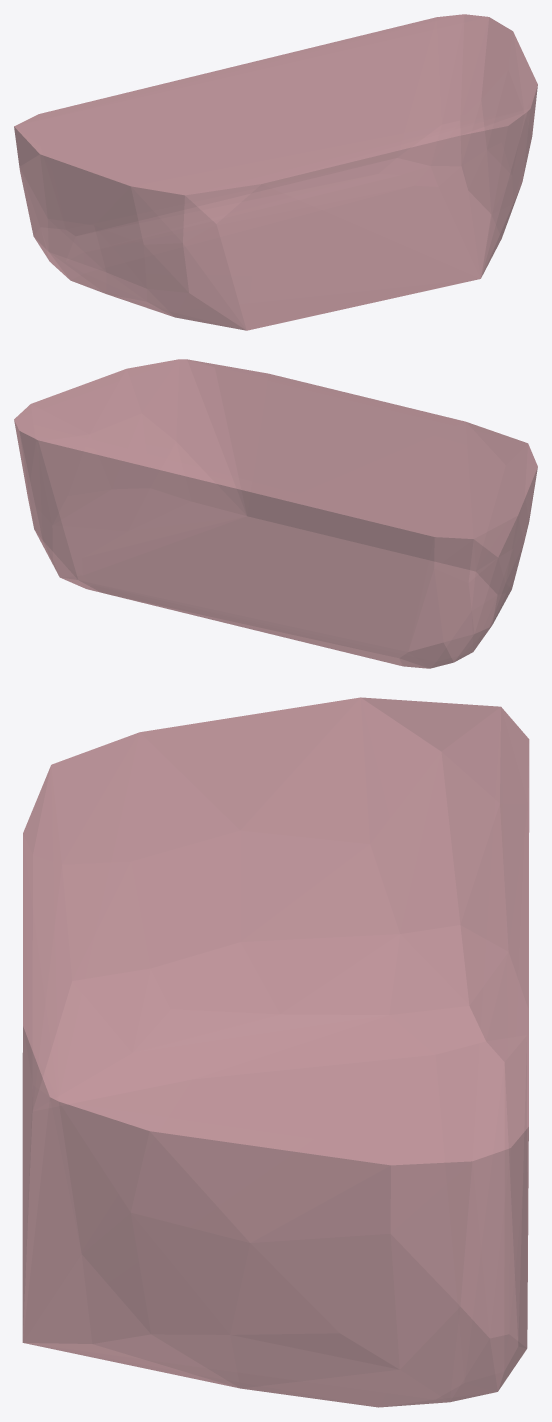
The picture shows the model from 3 angles, top to bottom: view 1: azimuth 30°, elevation 25°; view 2: azimuth 150°, elevation 25°; view 3: azimuth 270°, elevation 25°; orthographic projection. The views are drawn at different scales.
Parts seen in each view (by area): view 1: Shape_IndexedFaceSet.004_Shape_IndexedFaceSet.17982; view 2: Shape_IndexedFaceSet.004_Shape_IndexedFaceSet.17982; view 3: Shape_IndexedFaceSet.004_Shape_IndexedFaceSet.17982.
Boxes of the visible parts, left/top/right/bottom form: Shape_IndexedFaceSet.004_Shape_IndexedFaceSet.17982: left=14, top=14, right=537, bottom=330; Shape_IndexedFaceSet.004_Shape_IndexedFaceSet.17982: left=14, top=359, right=537, bottom=668; Shape_IndexedFaceSet.004_Shape_IndexedFaceSet.17982: left=22, top=697, right=529, bottom=1407.
Size of the model in its own units: 0.817 by 0.2433 by 0.3732.
